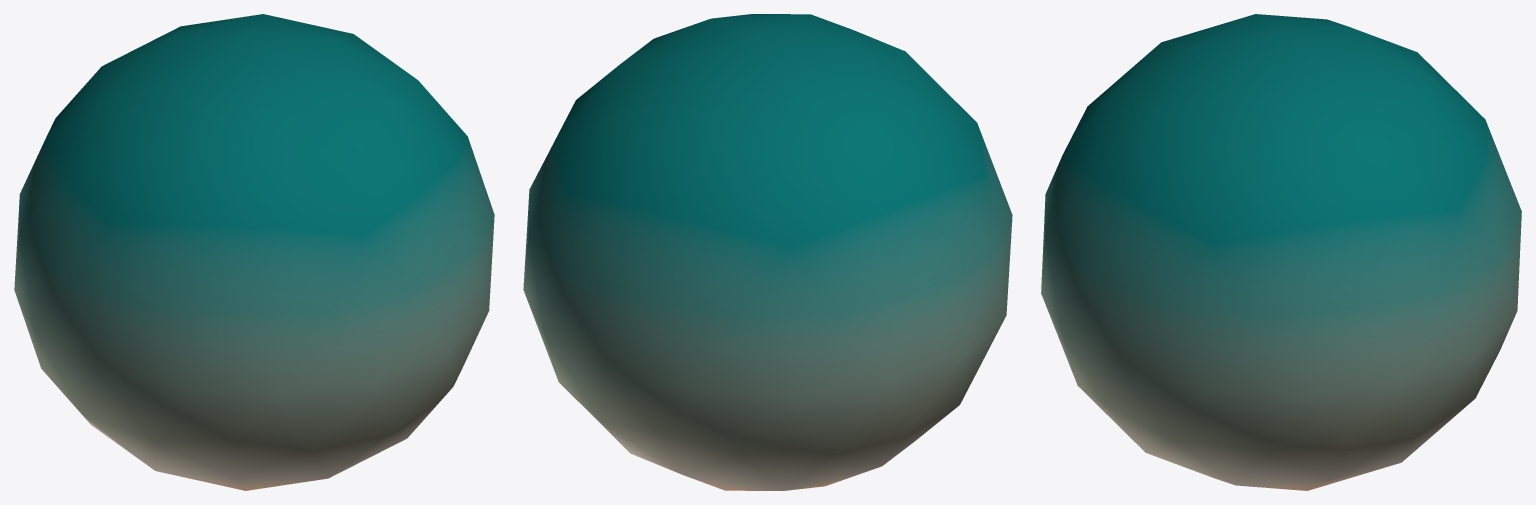
File: SkyDome17.dae
The picture shows the model from 3 angles, left to right: view 1: azimuth 30°, elevation 25°; view 2: azimuth 150°, elevation 25°; view 3: azimuth 270°, elevation 25°; orthographic projection.
Parts seen in each view (by area): view 1: F3:GeoDome1-0; view 2: F3:GeoDome1-0; view 3: F3:GeoDome1-0.
Boxes of the visible parts, x1,y1,x2,y2 form: F3:GeoDome1-0: (14,14,494,490); F3:GeoDome1-0: (523,14,1012,490); F3:GeoDome1-0: (1041,14,1521,490).
Bounding box in the file's own units: 25 × 25 × 25.
